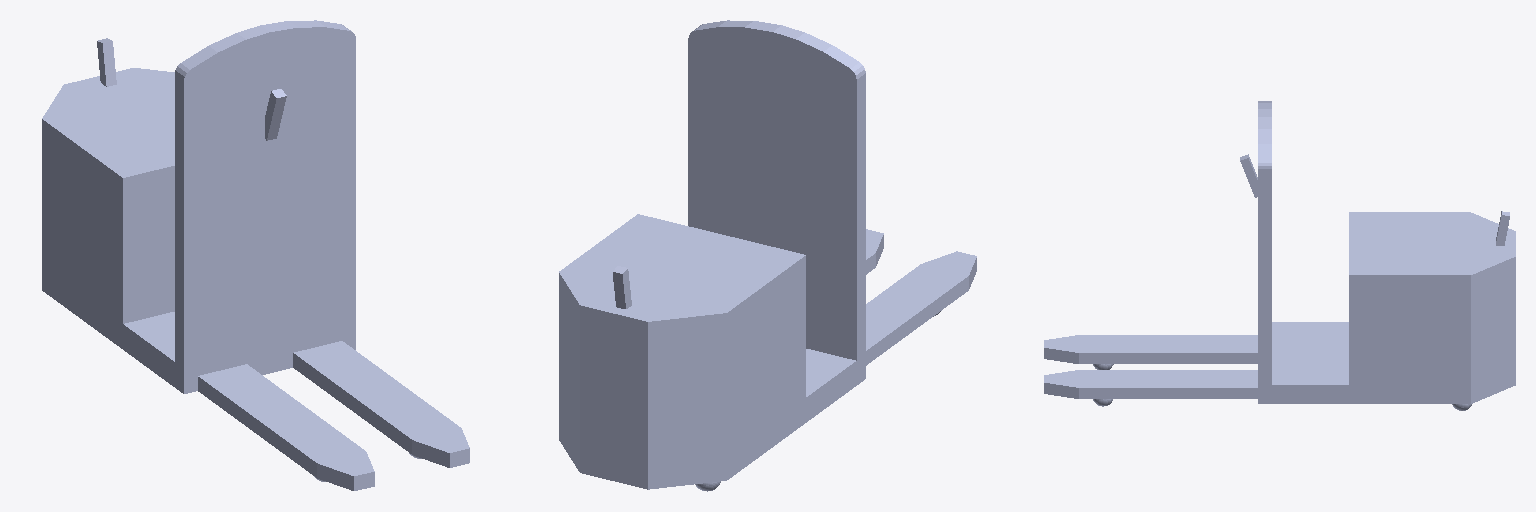
URDF robot description (Pallet_Jack):
<?xml version="1.0" encoding="utf-8"?>
<!-- This URDF was automatically created by SolidWorks to URDF Exporter! Originally created by [author] ([email redacted]) 
     Commit Version: 1.6.0-4-g7f85cfe  Build Version: 1.6.7995.38578
     For more information, please see http://wiki.ros.org/sw_urdf_exporter -->
<robot
  name="Pallet_Jack">
  <link
    name="base_link">
    <inertial>
      <origin
        xyz="5.96411363513258E-18 -0.229341831873231 -0.368194226284258"
        rpy="0 0 0" />
      <mass
        value="651.526919825643" />
      <inertia
        ixx="236.648863823001"
        ixy="1.57745839872068E-15"
        ixz="-1.34980703892526E-14"
        iyy="111.969799835616"
        iyz="-4.54986010712036"
        izz="204.968097364789" />
    </inertial>
    <visual>
      <origin
        xyz="0 0 0"
        rpy="0 0 0" />
      <geometry>
        <mesh
          filename="../meshes/base_link.STL" />
      </geometry>
      <material
        name="">
        <color
          rgba="0.792156862745098 0.819607843137255 0.933333333333333 1" />
      </material>
    </visual>
    <collision>
      <origin
        xyz="0 0 0"
        rpy="0 0 0" />
      <geometry>
        <mesh
          filename="../meshes/base_link.STL" />
      </geometry>
    </collision>
  </link>
  <link
    name="Steering">
    <inertial>
      <origin
        xyz="-2.22044604925031E-16 -3.67394039744206E-17 0.5125"
        rpy="0 0 0" />
      <mass
        value="44.1786466911065" />
      <inertia
        ixx="1.68661187628026"
        ixy="-2.32073788577701E-34"
        ixz="3.10766709049231E-16"
        iyy="1.68661187628026"
        iyz="7.49130242526057E-33"
        izz="0.497009775274948" />
    </inertial>
    <visual>
      <origin
        xyz="0 0 0"
        rpy="0 0 0" />
      <geometry>
        <mesh
          filename="../meshes/Steering.STL" />
      </geometry>
      <material
        name="">
        <color
          rgba="0.792156862745098 0.819607843137255 0.933333333333333 1" />
      </material>
    </visual>
    <collision>
      <origin
        xyz="0 0 0"
        rpy="0 0 0" />
      <geometry>
        <mesh
          filename="../meshes/Steering.STL" />
      </geometry>
    </collision>
  </link>
  <joint
    name="Steering"
    type="revolute">
    <origin
      xyz="0 0.2925 0"
      rpy="3.1416 0 1.5708" />
    <parent
      link="base_link" />
    <child
      link="Steering" />
    <axis
      xyz="0 0 1" />
    <limit
      lower="0"
      upper="0"
      effort="0"
      velocity="0" />
  </joint>
  <link
    name="Wheel">
    <inertial>
      <origin
        xyz="0 1.38777878078145E-17 -1.15037423374693E-17"
        rpy="0 0 0" />
      <mass
        value="37.6991118430775" />
      <inertia
        ixx="0.659734457253857"
        ixy="0"
        ixz="1.10460319414032E-33"
        iyy="0.659734457253857"
        iyz="-2.18556993607747E-33"
        izz="0.753982236861551" />
    </inertial>
    <visual>
      <origin
        xyz="0 0 0"
        rpy="0 0 0" />
      <geometry>
        <mesh
          filename="../meshes/Wheel.STL" />
      </geometry>
      <material
        name="">
        <color
          rgba="0.792156862745098 0.819607843137255 0.933333333333333 1" />
      </material>
    </visual>
    <collision>
      <origin
        xyz="0 0 0"
        rpy="0 0 0" />
      <geometry>
        <mesh
          filename="../meshes/Wheel.STL" />
      </geometry>
    </collision>
  </link>
  <joint
    name="Wheel"
    type="revolute">
    <origin
      xyz="0 0 0.695"
      rpy="1.5708 0 0" />
    <parent
      link="Steering" />
    <child
      link="Wheel" />
    <axis
      xyz="0 0 -1" />
    <limit
      lower="0"
      upper="0"
      effort="0"
      velocity="0" />
  </joint>
  <link
    name="Lidar">
    <inertial>
      <origin
        xyz="-2.85610591378709E-18 9.26352311630718E-18 0.0132810164759984"
        rpy="0 0 0" />
      <mass
        value="1.4060100831482" />
      <inertia
        ixx="0.00280942990751177"
        ixy="-2.56753174169809E-35"
        ixz="-1.92990064923066E-19"
        iyy="0.00280942990751177"
        iyz="2.3677402411872E-20"
        izz="0.00294592083958115" />
    </inertial>
    <visual>
      <origin
        xyz="0 0 0"
        rpy="0 0 0" />
      <geometry>
        <mesh
          filename="../meshes/Lidar.STL" />
      </geometry>
      <material
        name="">
        <color
          rgba="0.792156862745098 0.819607843137255 0.933333333333333 1" />
      </material>
    </visual>
    <collision>
      <origin
        xyz="0 0 0"
        rpy="0 0 0" />
      <geometry>
        <mesh
          filename="../meshes/Lidar.STL" />
      </geometry>
    </collision>
  </link>
  <joint
    name="Lidar"
    type="fixed">
    <origin
      xyz="0 -0.8175 1.03"
      rpy="0 0 0" />
    <parent
      link="base_link" />
    <child
      link="Lidar" />
    <axis
      xyz="0 0 0" />
  </joint>
  <link
    name="Zed_Camera_1">
    <inertial>
      <origin
        xyz="0.025 -2.75457869025788E-18 -2.22044604925031E-16"
        rpy="0 0 0" />
      <mass
        value="0.615000000000001" />
      <inertia
        ixx="0.00322957000000001"
        ixy="4.86917445842834E-19"
        ixz="4.01154803819637E-18"
        iyy="0.000256250000000012"
        iyz="-1.2057115591509E-18"
        izz="0.00322957000000001" />
    </inertial>
    <visual>
      <origin
        xyz="0 0 0"
        rpy="0 0 0" />
      <geometry>
        <mesh
          filename="../meshes/Zed_Camera_1.STL" />
      </geometry>
      <material
        name="">
        <color
          rgba="0.792156862745098 0.819607843137255 0.933333333333333 1" />
      </material>
    </visual>
    <collision>
      <origin
        xyz="0 0 0"
        rpy="0 0 0" />
      <geometry>
        <mesh
          filename="../meshes/Zed_Camera_1.STL" />
      </geometry>
    </collision>
  </link>
  <joint
    name="Zed_Camera_1"
    type="fixed">
    <origin
      xyz="0 -0.8675 0.42825"
      rpy="0 0.34907 -1.5708" />
    <parent
      link="base_link" />
    <child
      link="Zed_Camera_1" />
    <axis
      xyz="0 0 0" />
  </joint>
  <link
    name="Zed_Camera_2">
    <inertial>
      <origin
        xyz="0.0250000000000004 2.69948711645273E-17 -2.22044604925031E-16"
        rpy="0 0 0" />
      <mass
        value="0.615000000000001" />
      <inertia
        ixx="0.00322956999999997"
        ixy="1.01470455341151E-19"
        ixz="-4.44522890719057E-18"
        iyy="0.000256249999999968"
        iyz="8.83798450979468E-20"
        izz="0.00322957000000001" />
    </inertial>
    <visual>
      <origin
        xyz="0 0 0"
        rpy="0 0 0" />
      <geometry>
        <mesh
          filename="../meshes/Zed_Camera_2.STL" />
      </geometry>
      <material
        name="">
        <color
          rgba="0.792156862745098 0.819607843137255 0.933333333333333 1" />
      </material>
    </visual>
    <collision>
      <origin
        xyz="0 0 0"
        rpy="0 0 0" />
      <geometry>
        <mesh
          filename="../meshes/Zed_Camera_2.STL" />
      </geometry>
    </collision>
  </link>
  <joint
    name="Zed_Camera_2"
    type="fixed">
    <origin
      xyz="0 0.4925 0.07"
      rpy="0 0.17453 1.5708" />
    <parent
      link="base_link" />
    <child
      link="Zed_Camera_2" />
    <axis
      xyz="0 0 0" />
  </joint>
</robot>

--- Facts derived from the render (not from the file) ---
The picture shows the robot from 3 angles, left to right: view 1: azimuth 30°, elevation 25°; view 2: azimuth 150°, elevation 25°; view 3: azimuth 270°, elevation 25°; orthographic projection.
Robot: Pallet_Jack — 6 links, 5 joints (2 revolute, 3 fixed); root link base_link; default pose: all joints at 0.
Visible links, largest first — view 1: base_link, Zed_Camera_1, Zed_Camera_2; view 2: base_link, Zed_Camera_2; view 3: base_link.
Boxes of the visible links, x1,y1,x2,y2 form: base_link: (42, 20, 469, 490); Zed_Camera_1: (265, 89, 286, 140); Zed_Camera_2: (97, 38, 116, 86); base_link: (559, 20, 976, 491); Zed_Camera_2: (613, 266, 631, 308); base_link: (1044, 101, 1515, 410).
Size in the robot's own frame: 0.84 by 2.65 by 1.69 metres.
5 mesh visuals loaded from 6 distinct referenced files (5 binary STL); not drawn: 1 (reference not matched to a file when rendering).